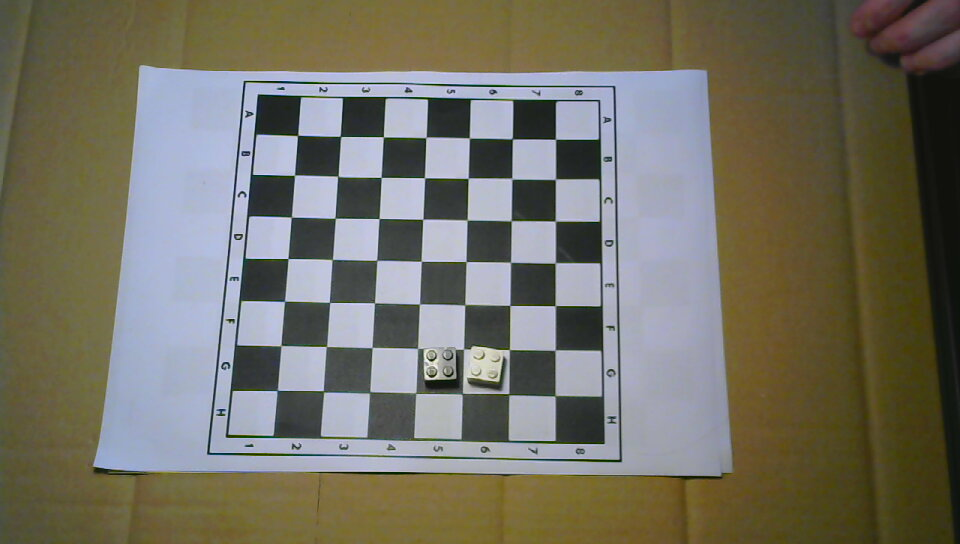bp: (421, 345, 459, 383)
wp: (465, 344, 506, 386)
